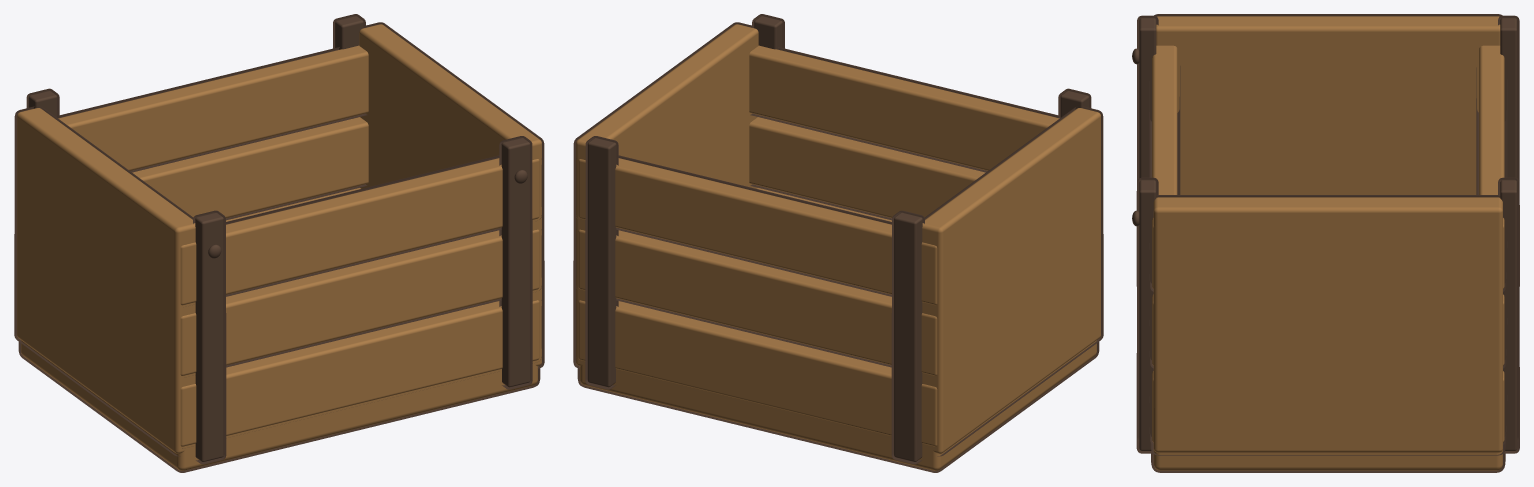
The model's file is prop_10003.glb.
The picture shows the model from 3 angles, left to right: view 1: azimuth 30°, elevation 25°; view 2: azimuth 150°, elevation 25°; view 3: azimuth 270°, elevation 25°; orthographic projection. The views are drawn at different scales.
Parts seen in each view (by area): view 1: prop_10003; view 2: prop_10003; view 3: prop_10003.
Boxes of the visible parts, x1,y1,x2,y2 form: prop_10003: (14, 14, 544, 472); prop_10003: (573, 14, 1103, 472); prop_10003: (1132, 14, 1519, 472).
Size of the model in its own units: 0.83 by 0.5466 by 0.692.
